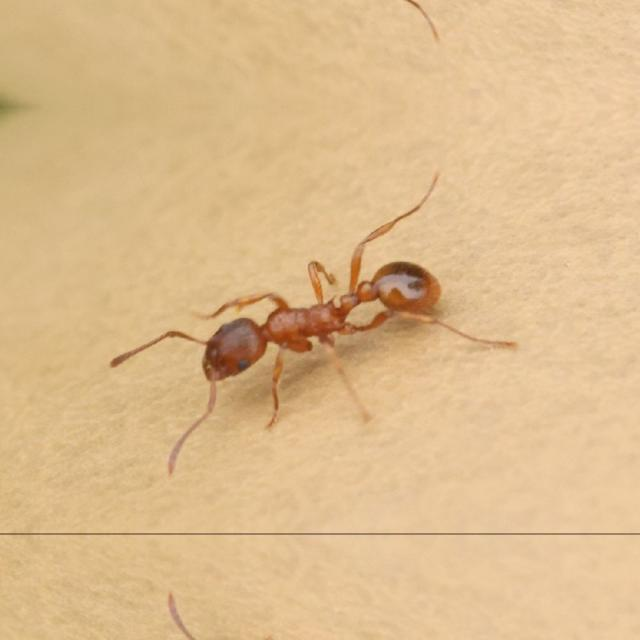Myrmica: (127, 218, 487, 428)
